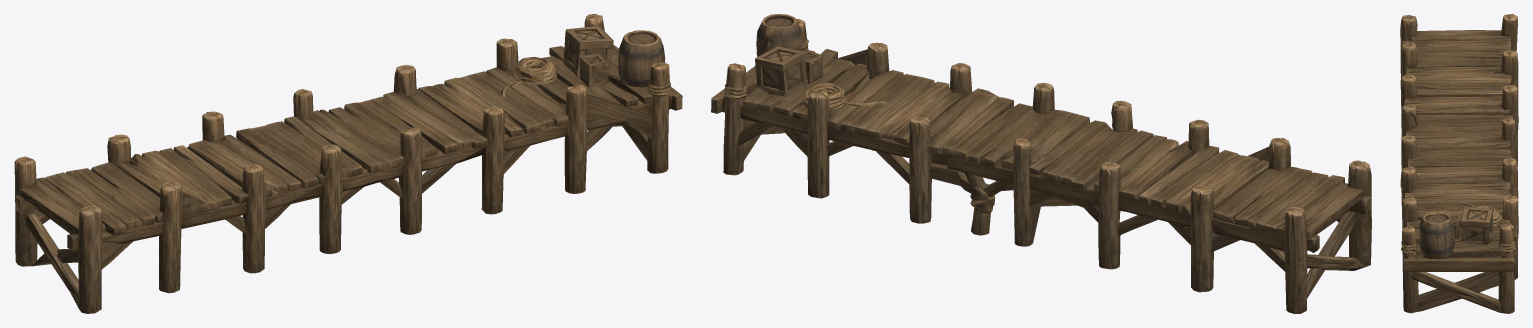
Rendered from pier.glb.
3 renders of one model, left to right at view 1: azimuth 30°, elevation 25°; view 2: azimuth 150°, elevation 25°; view 3: azimuth 270°, elevation 25°, orthographic. The views are drawn at different scales.
Parts seen in each view (by area): view 1: pier; view 2: pier; view 3: pier.
Part boxes in pixels (x1,y1,x2,y2): pier: (14, 14, 682, 313); pier: (711, 14, 1371, 313); pier: (1400, 14, 1518, 313).
Size of the model in its own units: 22 by 4.18 by 4.81.
Materials: 1 (1 with a texture image).
